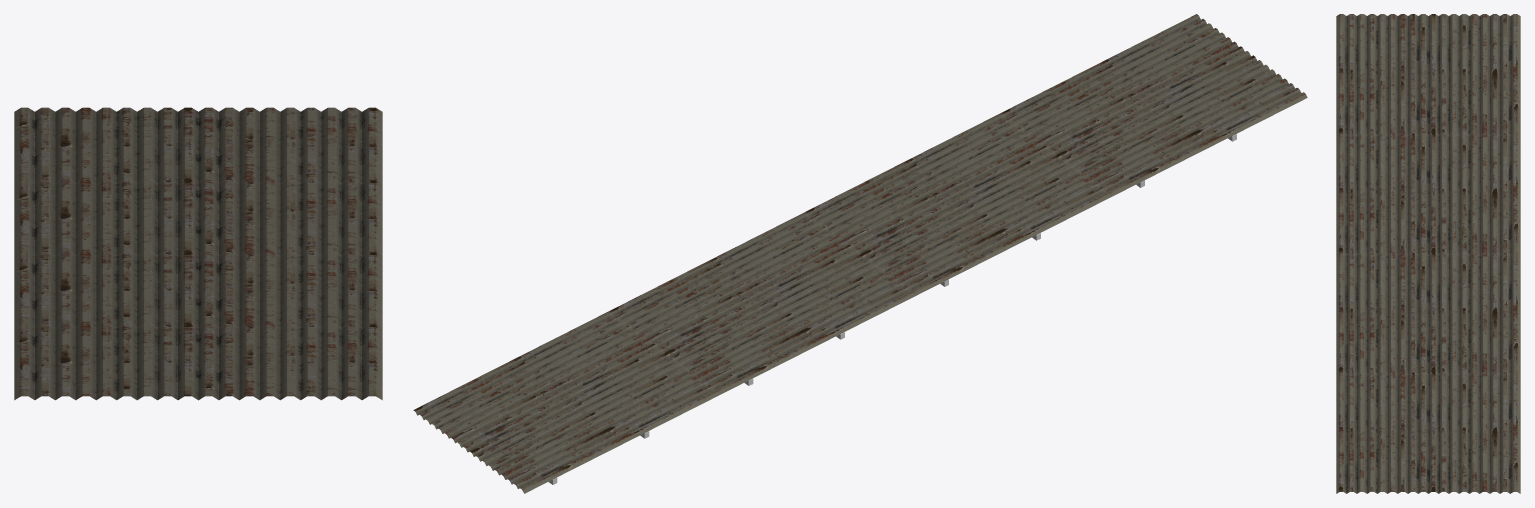
Rendered from Metal_Roof_4X.fbx.
3 views of the same model, side by side, from view 1: azimuth 90°, elevation 25°; view 2: azimuth 210°, elevation 25°; view 3: azimuth 270°, elevation 25° (orthographic). The views are drawn at different scales.
Parts seen in each view (by area): view 1: Metal_Roof_4X; view 2: Metal_Roof_4X; view 3: Metal_Roof_4X.
Part boxes in pixels (x1,y1,x2,y2): Metal_Roof_4X: (14, 107, 382, 400); Metal_Roof_4X: (413, 14, 1307, 493); Metal_Roof_4X: (1336, 14, 1520, 493).
Bounding box in the file's own units: 16 × 4.05 × 4.
